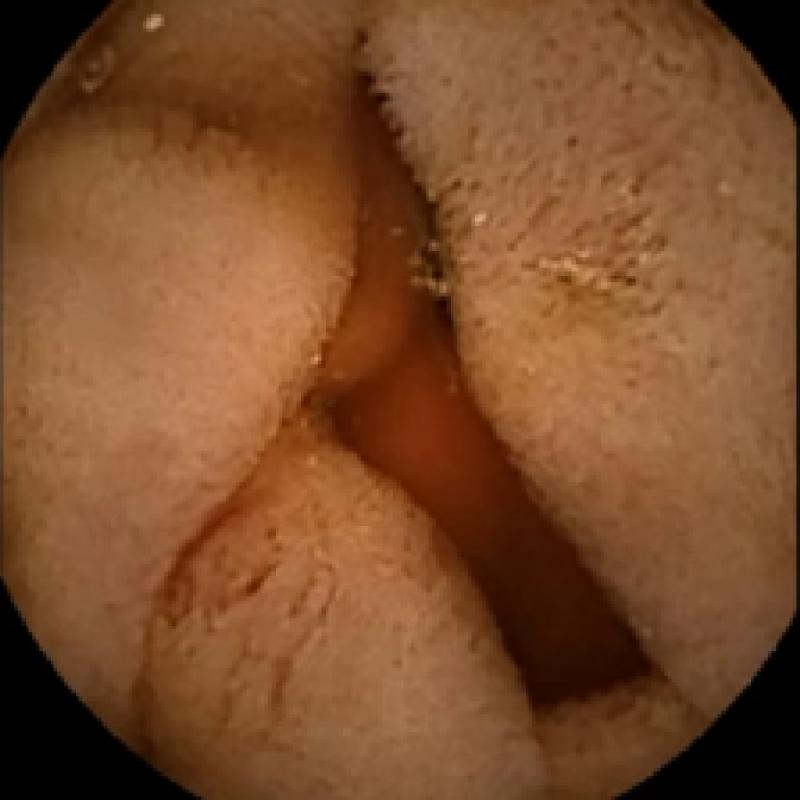bleeding: (325, 178, 646, 696)
